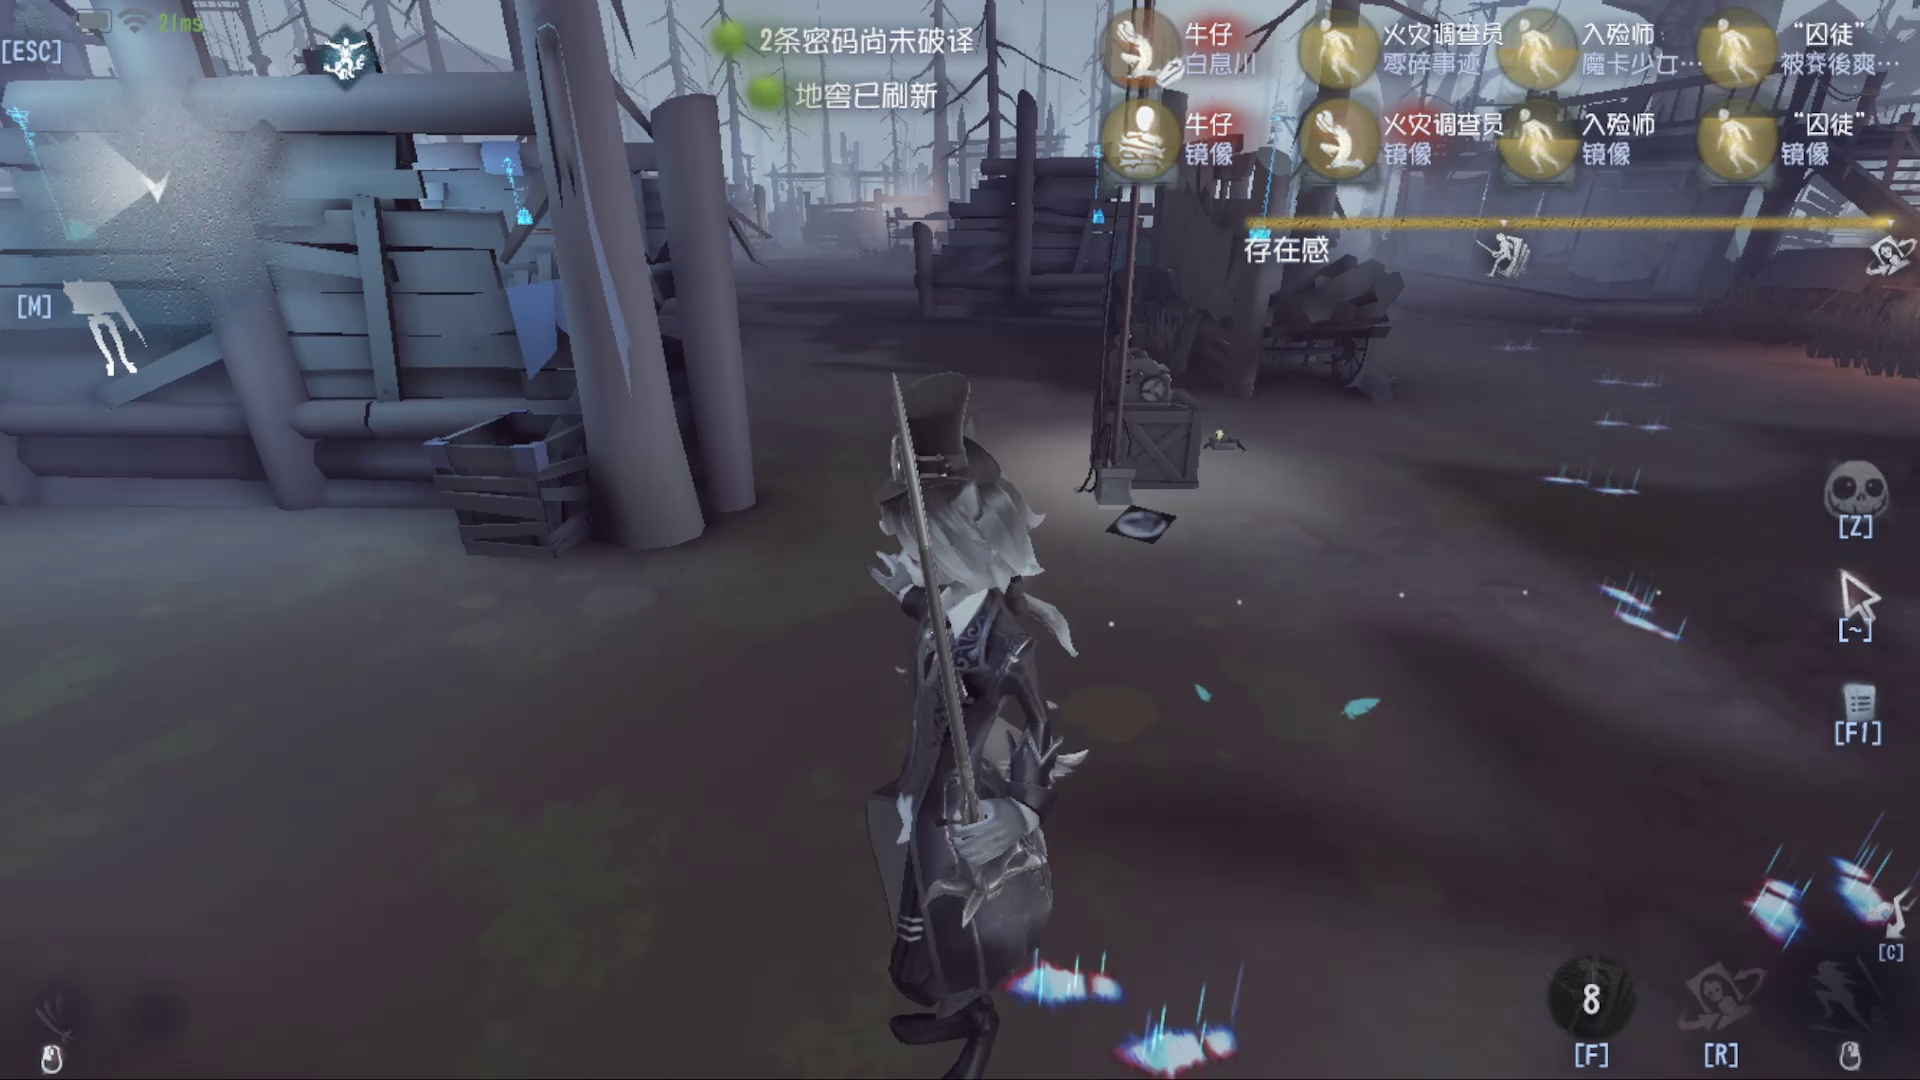密码机: (1058, 195, 1242, 512), (473, 124, 550, 240), (1083, 132, 1116, 235)
